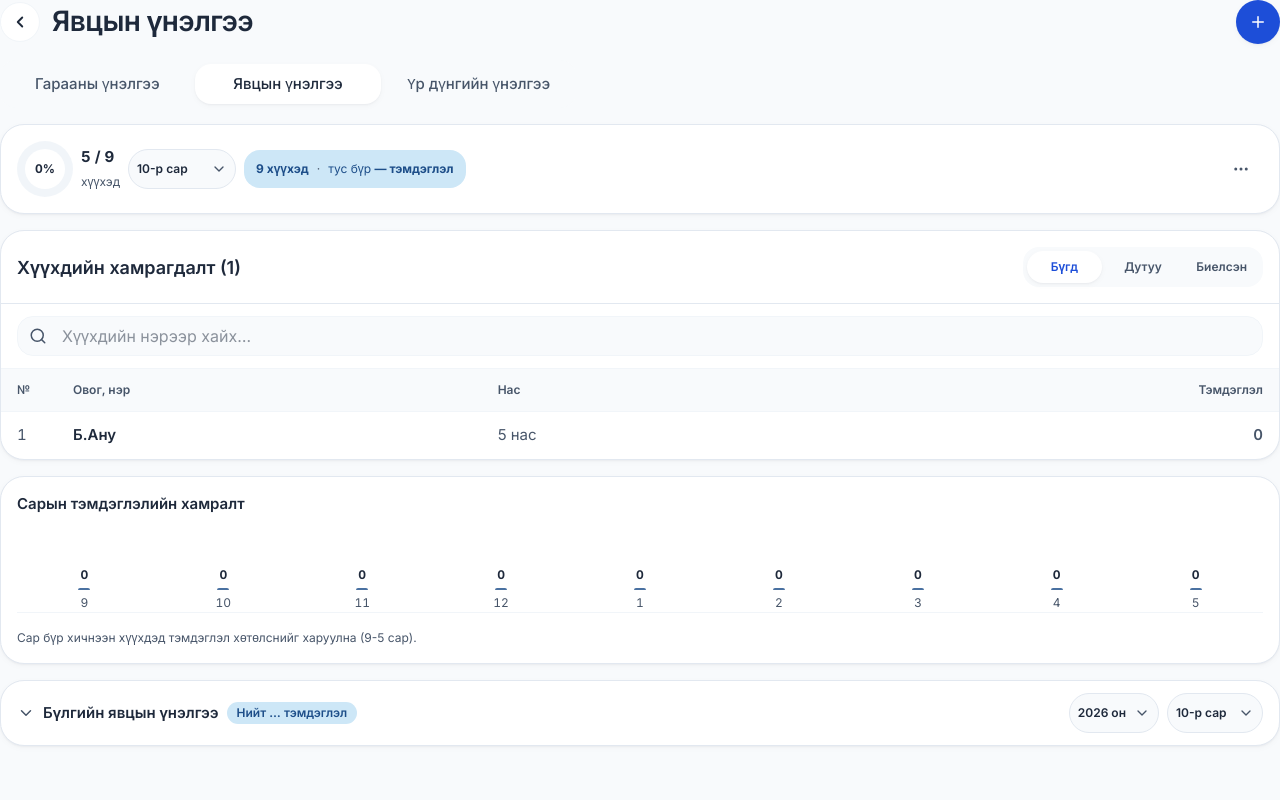
Test: the new-record strip › keeps the completion filter behind the search's icon
Click the button named "Явцын үнэлгээ бичих": (1258, 22) x1=1236 y1=0 x2=1279 y2=44
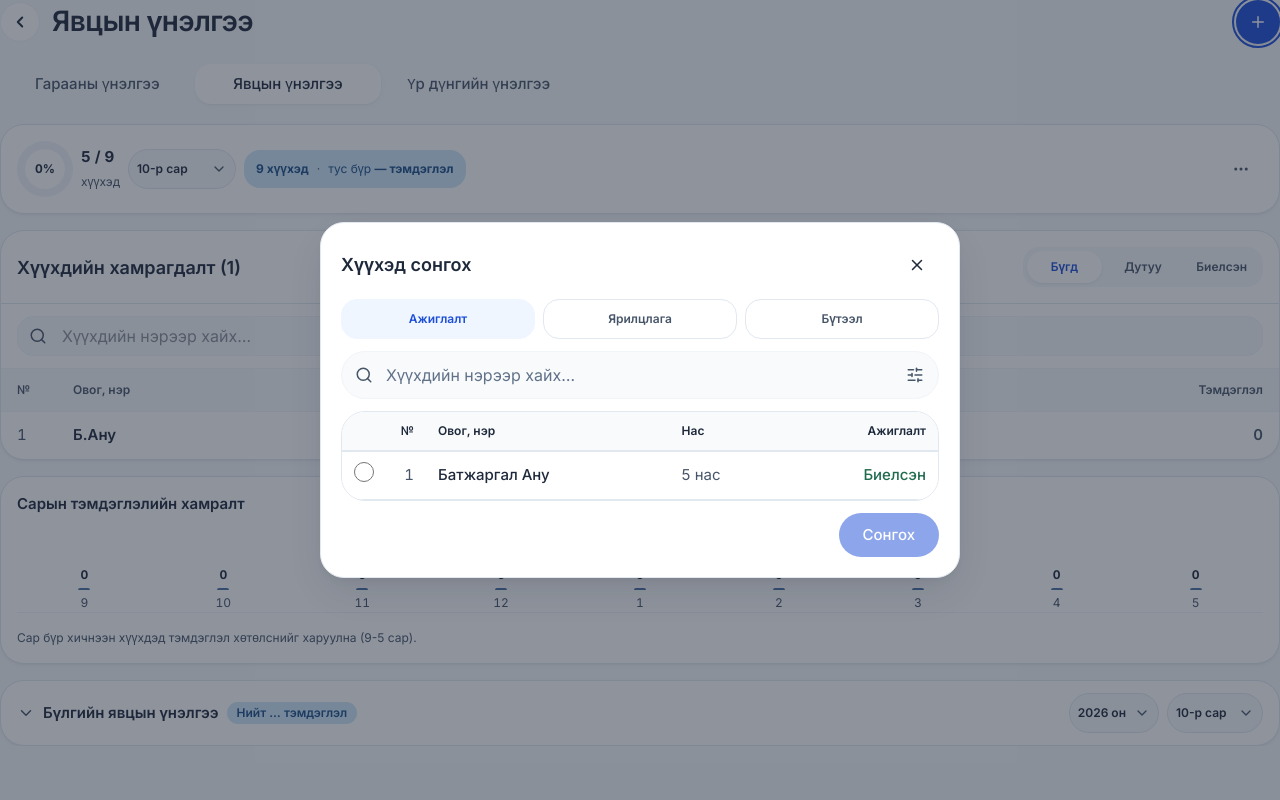
Click the button named "Шүүлтүүр": (915, 375) x1=893 y1=353 x2=937 y2=397
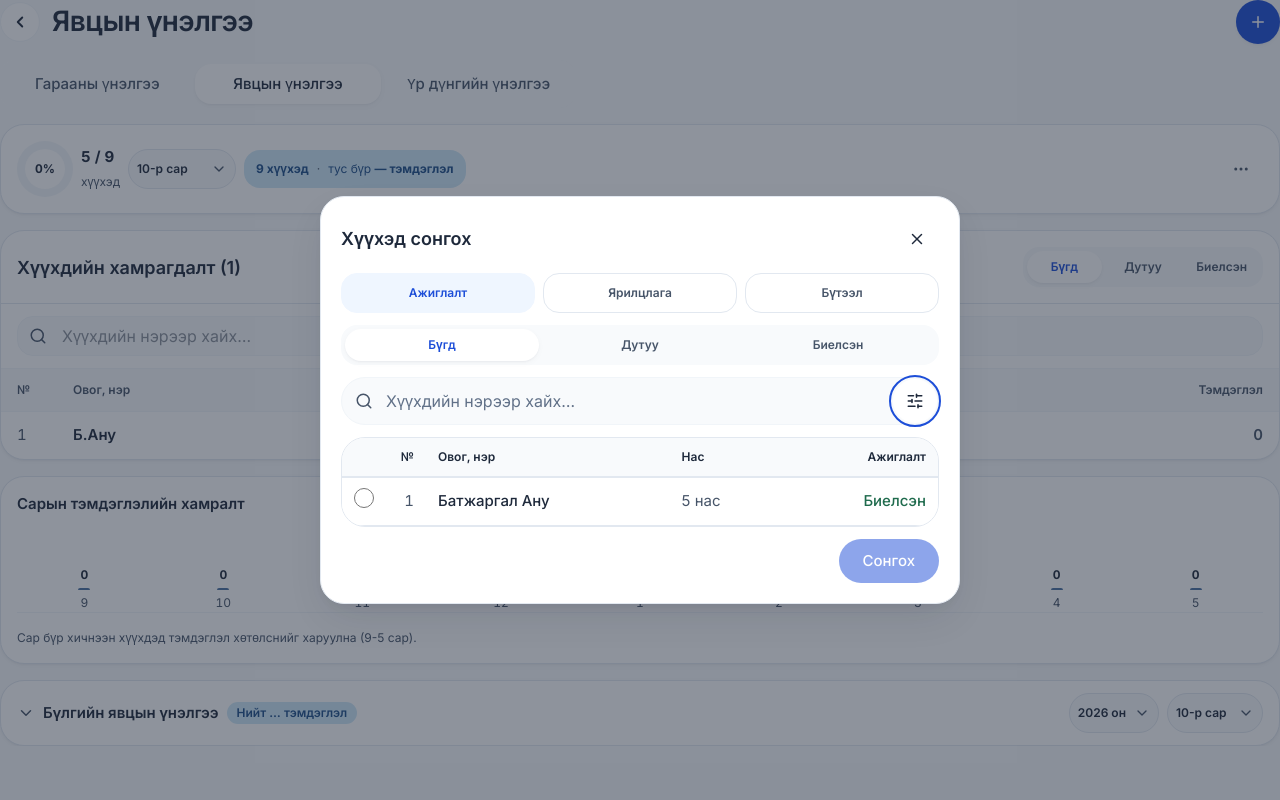
Click the button "Дутуу": (640, 345) x1=543 y1=329 x2=737 y2=361
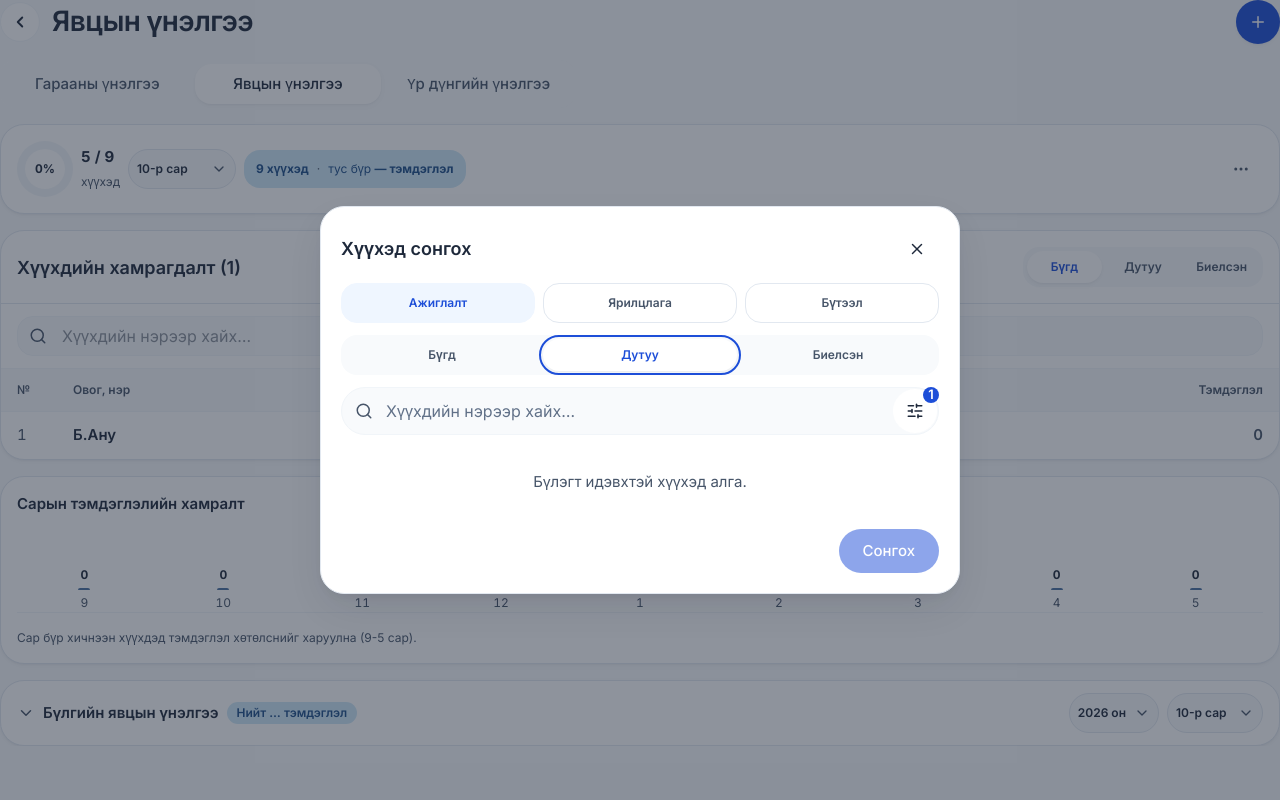
Check: the cell "Батжаргал Ану" is gone
